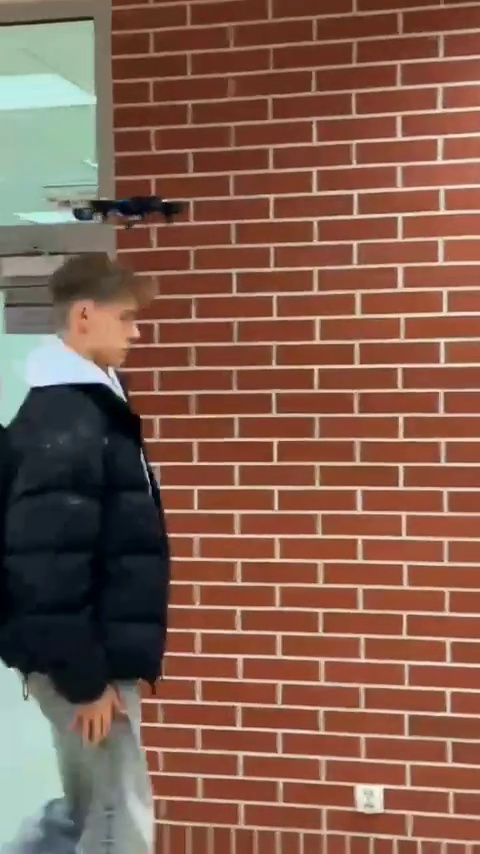drone: (75, 192, 188, 225)
no vest: (0, 246, 192, 848)
